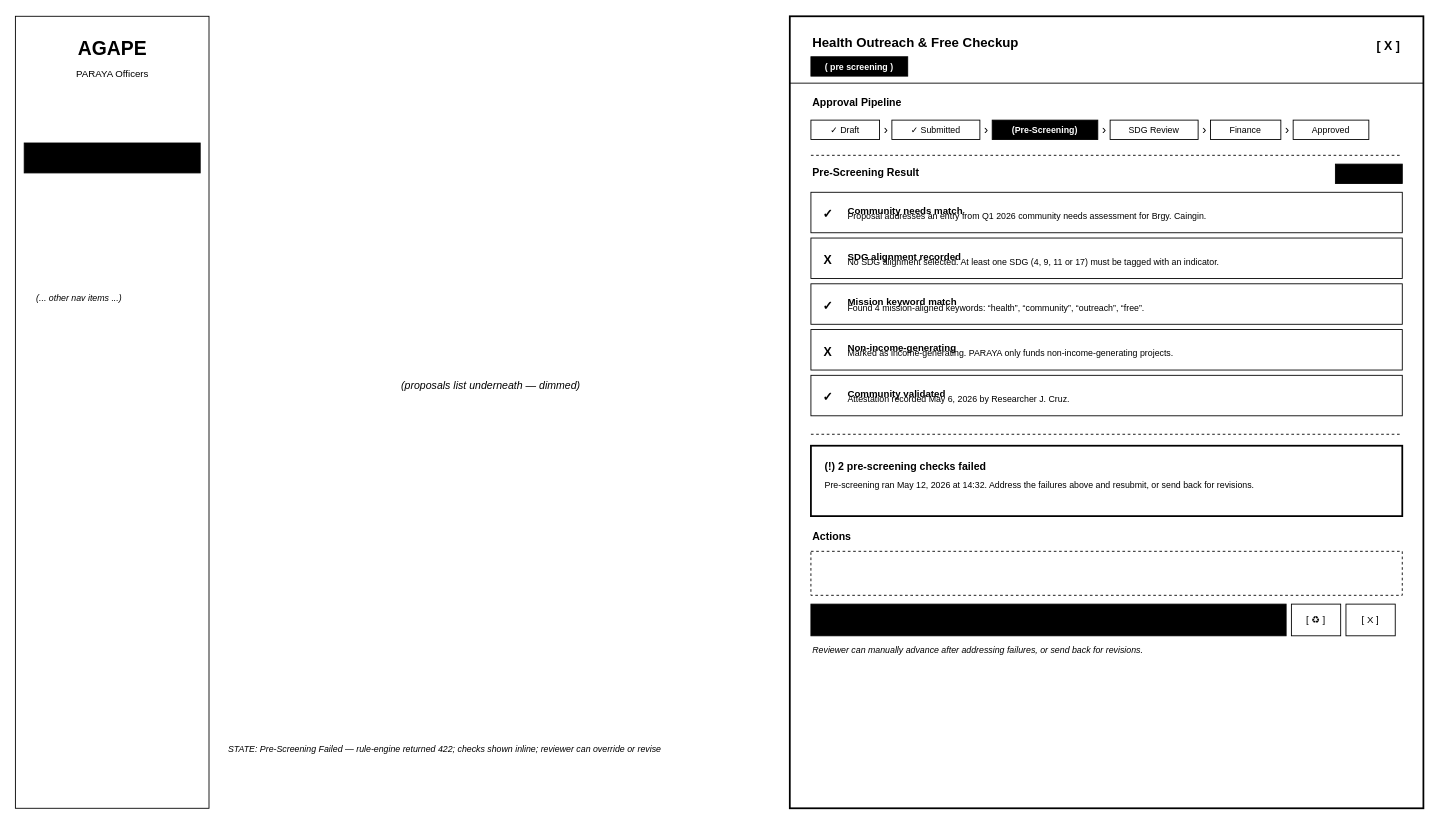
Image size: 1440x824. Some labels were removed from this diagram. The shapes that lost their labels are listed below. From the top down, each one's centre as x and y in pixels, then its label:
the point at 111,157: [x] Proposals
the point at 1368,173: Failed
the point at 1106,572: Add notes for this review stage…
the point at 1048,619: [ ➤ PASS PRE-SCREENING ]
